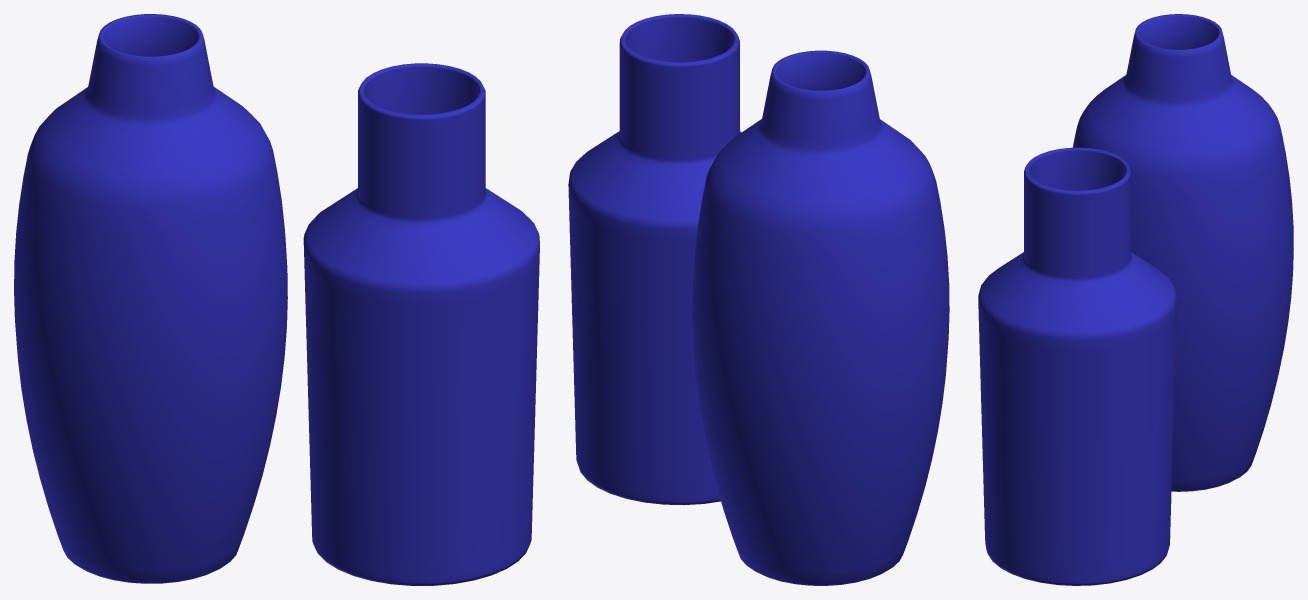
Rendered from Jars.fbx.
The picture shows the model from 3 angles, left to right: view 1: azimuth 30°, elevation 25°; view 2: azimuth 150°, elevation 25°; view 3: azimuth 270°, elevation 25°; orthographic projection. The views are drawn at different scales.
Parts seen in each view (by area): view 1: decor_002; view 2: decor_002; view 3: decor_002.
Part boxes in pixels (bbox=[...]): decor_002: bbox=[14, 14, 539, 585]; decor_002: bbox=[568, 14, 949, 585]; decor_002: bbox=[978, 14, 1293, 585].
Size of the model in its own units: 14.74 by 11.12 by 16.71.
